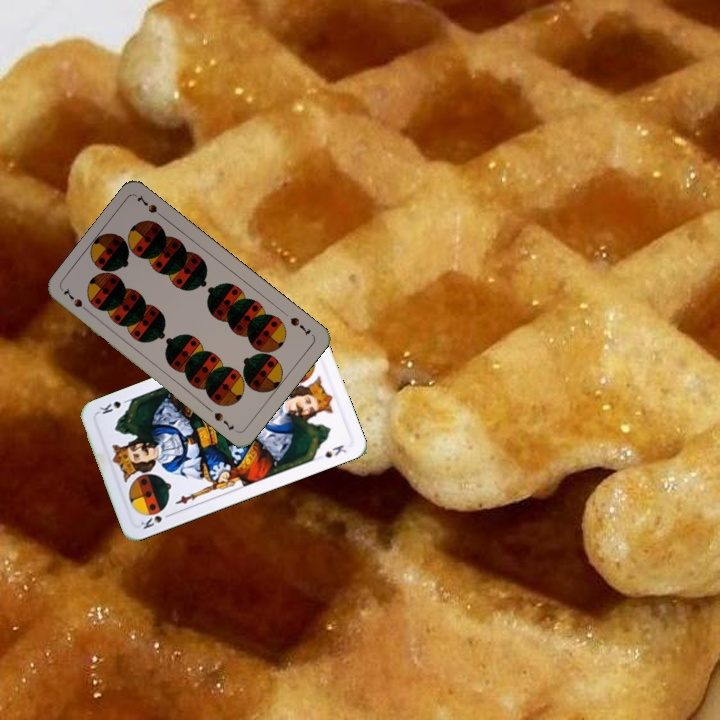S7: (59, 284, 93, 316), (286, 313, 313, 339)
SK: (136, 509, 175, 532)
